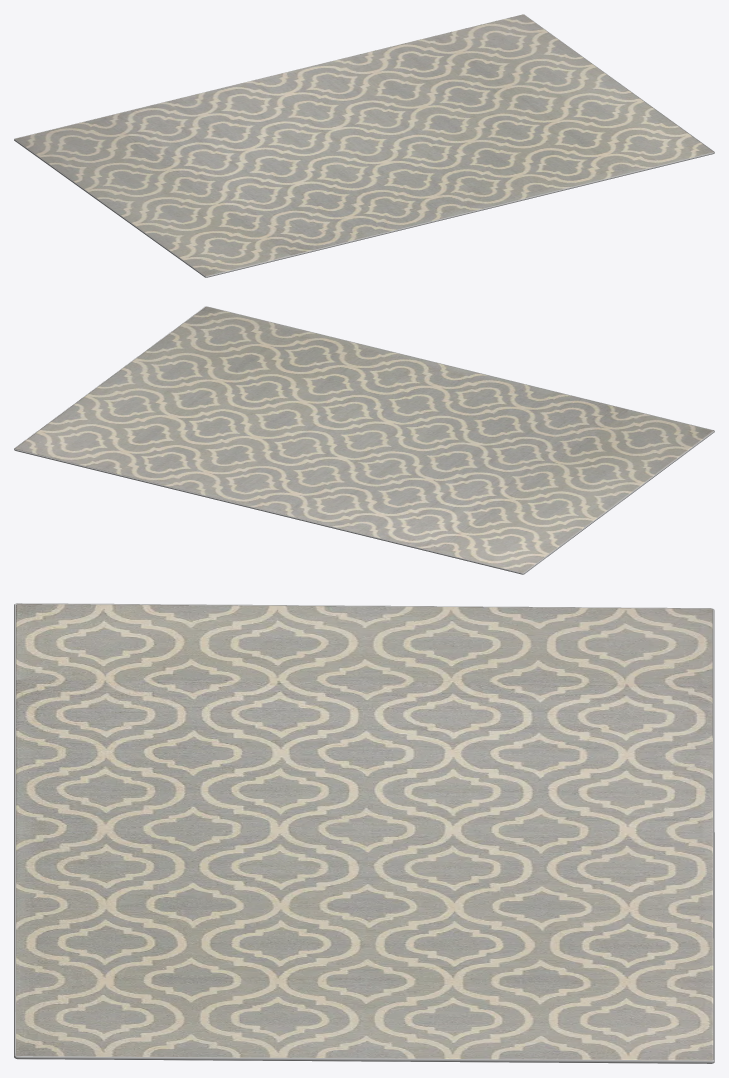
File: rug_abo_B071W31P67.glb
3 views of the same model, one above another, from view 1: azimuth 30°, elevation 25°; view 2: azimuth 150°, elevation 25°; view 3: azimuth 270°, elevation 25° (orthographic). The views are drawn at different scales.
Parts seen in each view (by area): view 1: RootNode; view 2: RootNode; view 3: RootNode.
Boxes of the visible parts, x1=… form: RootNode: x1=14, y1=14, x2=714, y2=277; RootNode: x1=14, y1=306, x2=714, y2=574; RootNode: x1=14, y1=603, x2=714, y2=1063.
Bounding box in the file's own units: 1.75 × 0.0149 × 1.14.
1 material, 1 textured.
